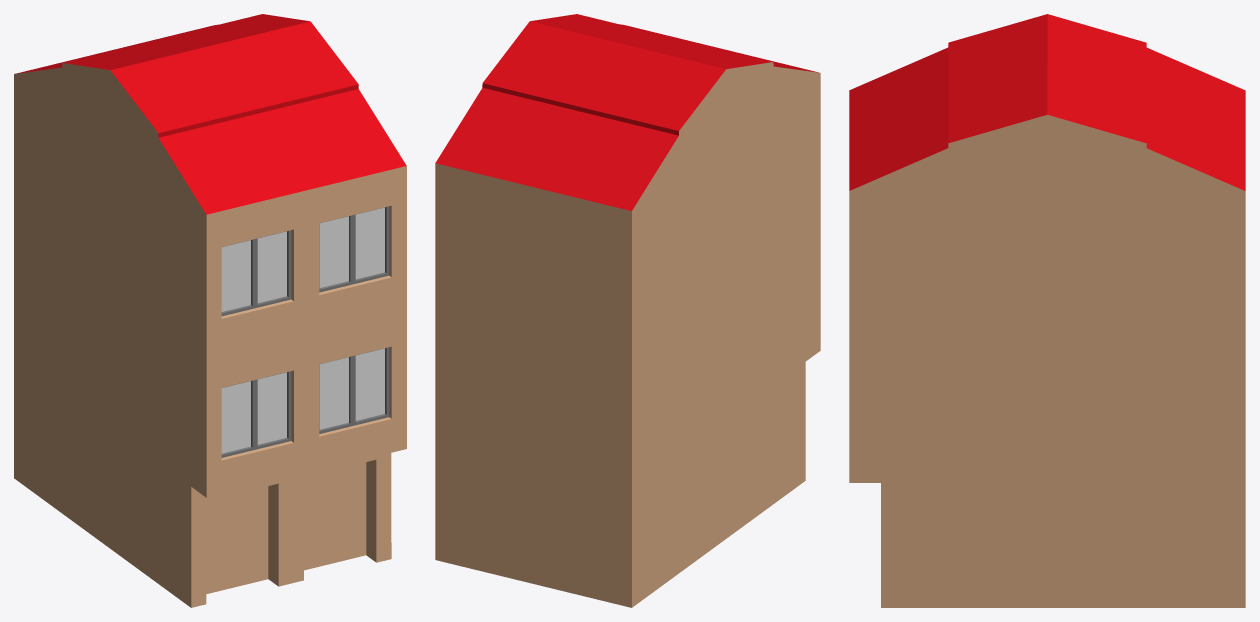
The model's file is tinty house.fbx.
3 renders of one model, left to right at view 1: azimuth 30°, elevation 25°; view 2: azimuth 150°, elevation 25°; view 3: azimuth 270°, elevation 25°, orthographic. The views are drawn at different scales.
Parts seen in each view (by area): view 1: tiny house; view 2: tiny house; view 3: tiny house.
Boxes of the visible parts, x1,y1,x2,y2 form: tiny house: [14, 14, 406, 607]; tiny house: [435, 14, 820, 607]; tiny house: [849, 14, 1245, 607].
Bounding box in the file's own units: 2260 × 5160 × 3760.
